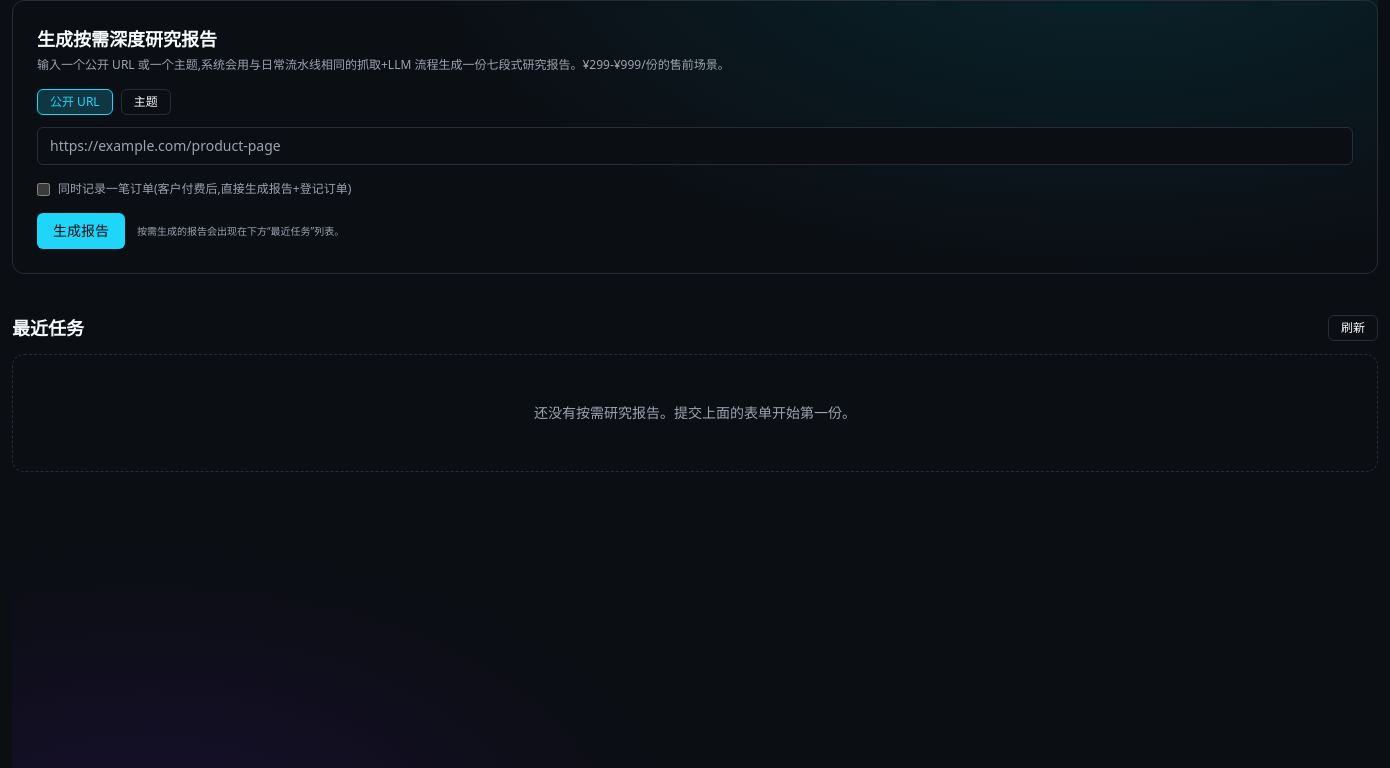
Scenario: OnDemandPanel › blocks submission with a friendly error when seed is empty
Click the button with test id "on-demand-submit". click: (81, 231)
box: [37,213,125,249]
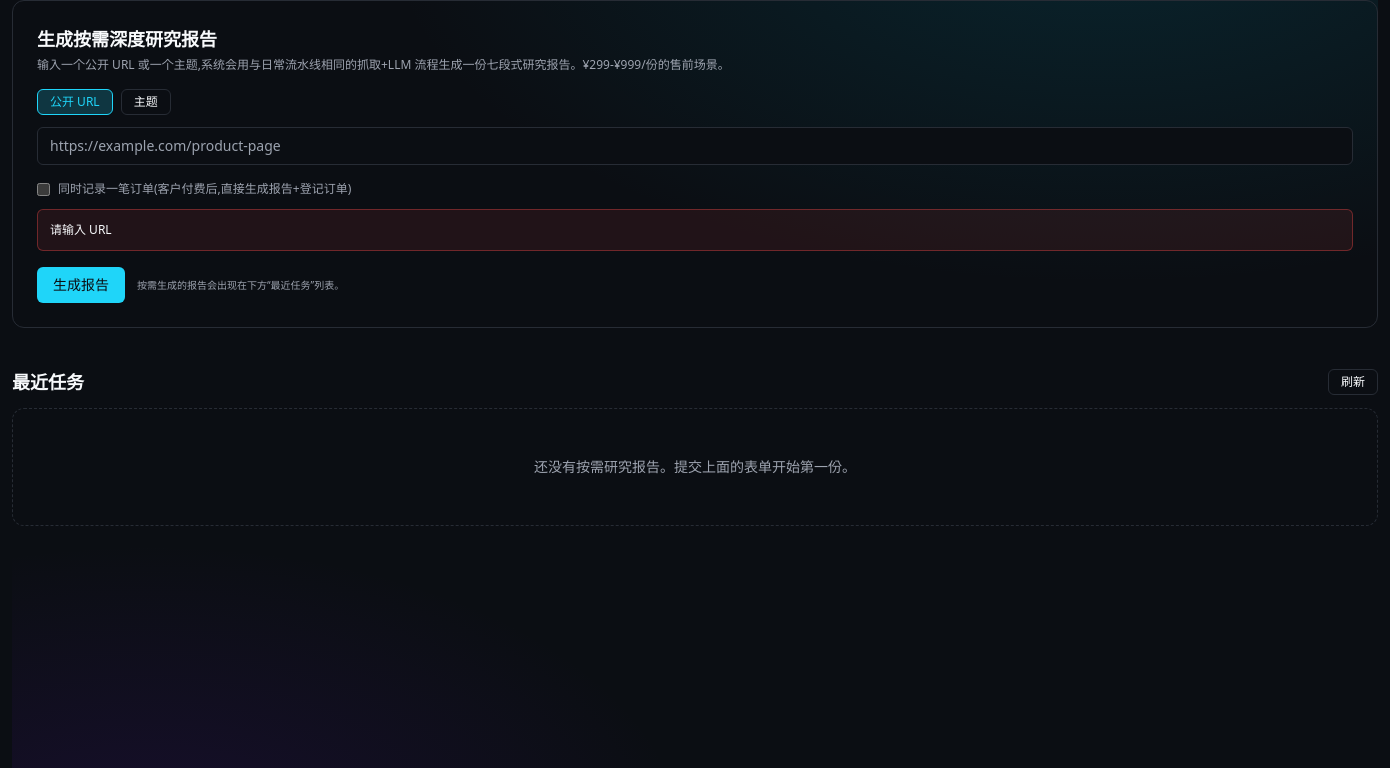
Now the text with test id "on-demand-error" reads "请输入 URL", box [50,221,112,238]
